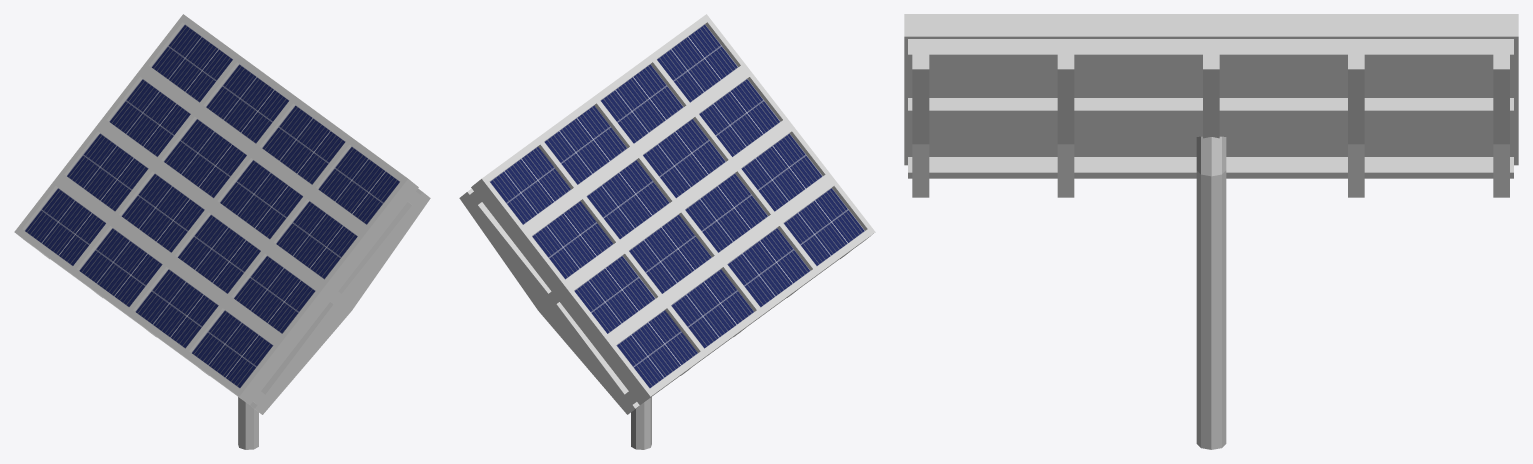
File: solar.glb
3 renders of one model, left to right at view 1: azimuth 30°, elevation 25°; view 2: azimuth 150°, elevation 25°; view 3: azimuth 270°, elevation 25°, orthographic. The views are drawn at different scales.
Parts seen in each view (by area): view 1: painel-solar_0; view 2: painel-solar_0; view 3: painel-solar_0.
Part boxes in pixels (x1=…): painel-solar_0: x1=14, y1=14, x2=430, y2=449; painel-solar_0: x1=459, y1=14, x2=875, y2=449; painel-solar_0: x1=904, y1=14, x2=1518, y2=449.
Bounding box in the file's own units: 12.68 × 21.03 × 25.4.
Materials: 1 (1 with a texture image).
